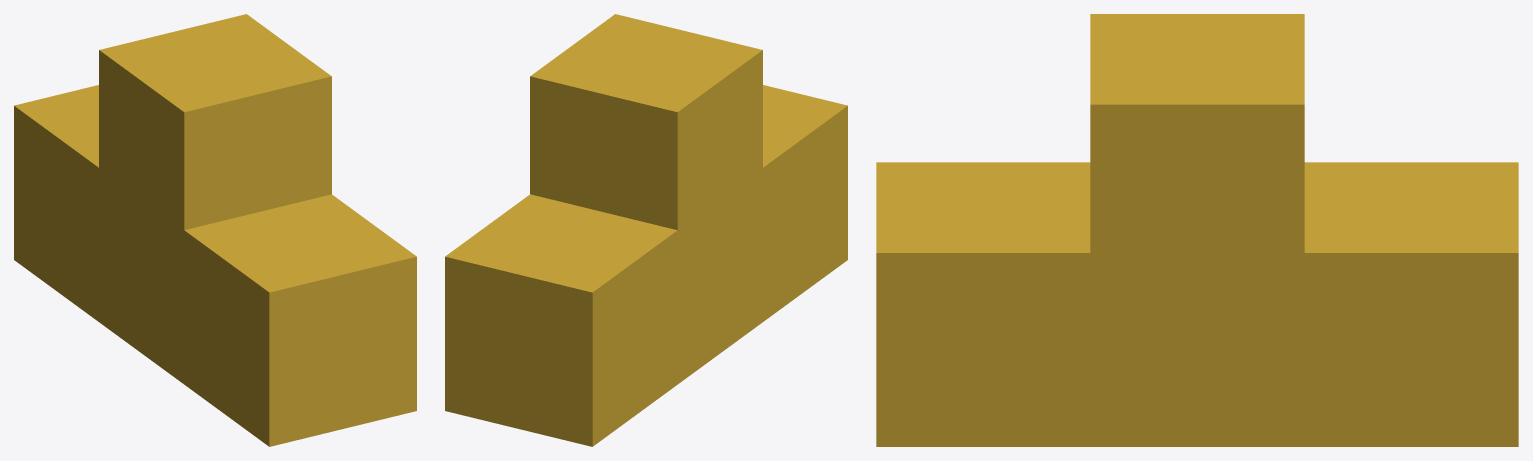
The model's file is podium.glb.
The picture shows the model from 3 angles, left to right: view 1: azimuth 30°, elevation 25°; view 2: azimuth 150°, elevation 25°; view 3: azimuth 270°, elevation 25°; orthographic projection. The views are drawn at different scales.
Visible parts, largest first — view 1: Cube.001; view 2: Cube.001; view 3: Cube.001.
Part boxes in pixels (x1,y1,x2,y2): Cube.001: [14, 14, 416, 446]; Cube.001: [445, 14, 847, 446]; Cube.001: [876, 14, 1518, 446].
Bounding box in the file's own units: 2 × 3.53 × 6.
